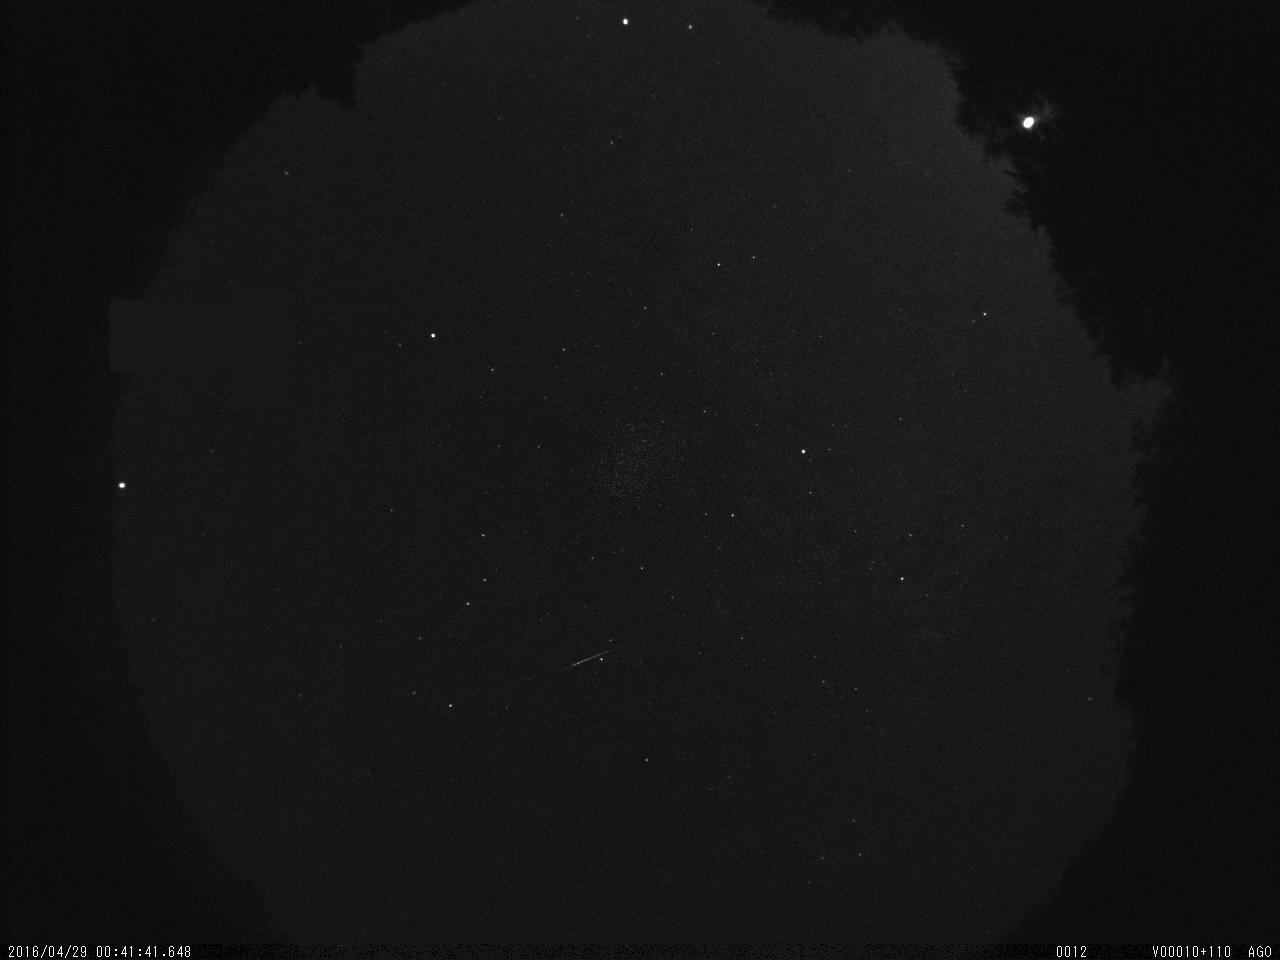meteor: (567, 645, 633, 676)
